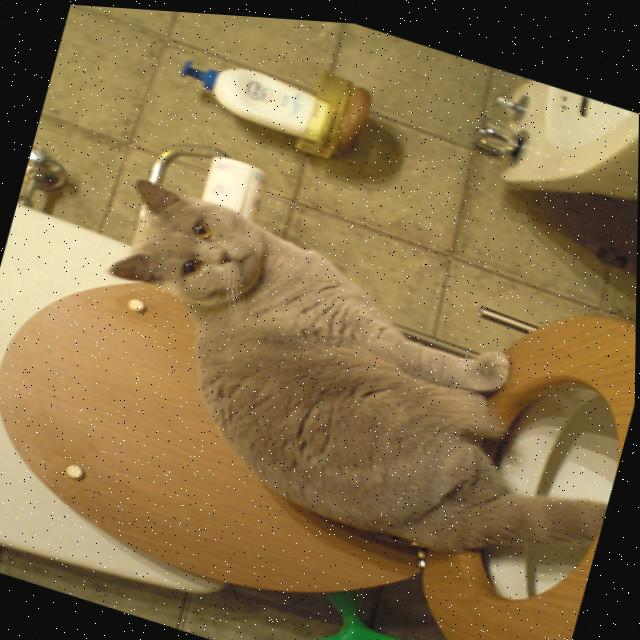British Shorthair: (57, 164, 638, 594)
